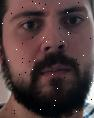without_mask: (1, 1, 94, 118)
